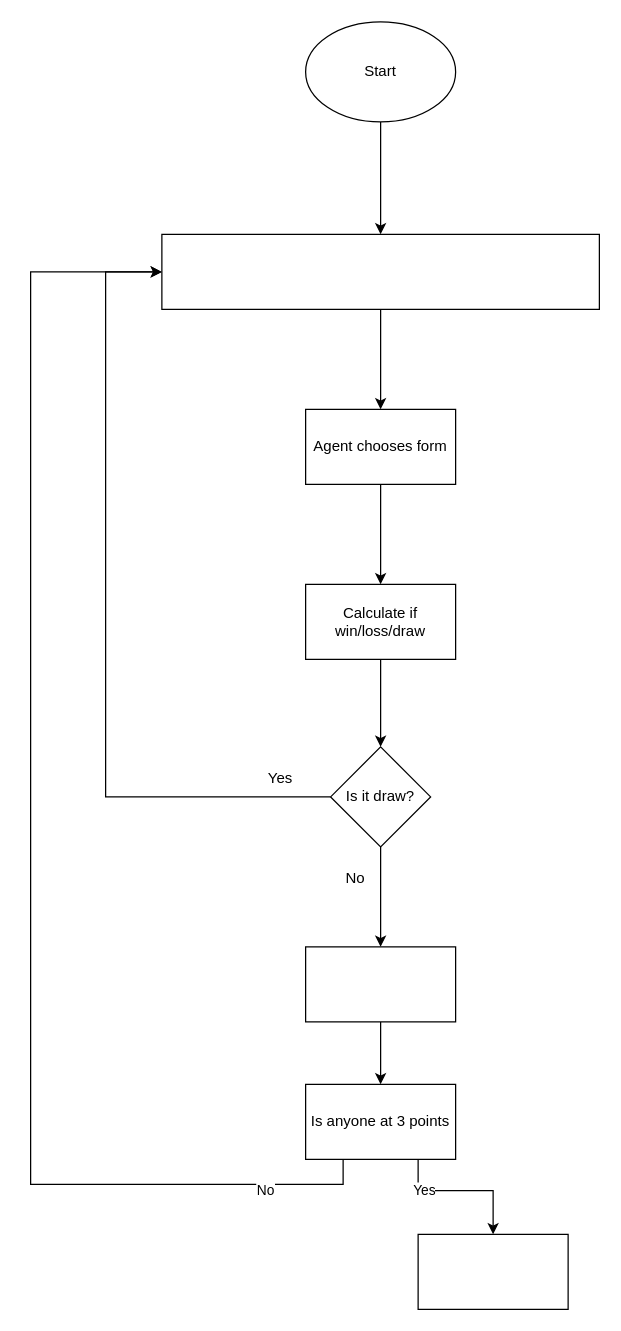
Image size: 621x1331. Some labels were removed from this diagram. The centre of each missing label's shape, as x and y in pixels:
"End - Game won/over" belongs at point (492, 1271).
"Player chooses form" belongs at point (380, 271).
"Update score for winner" belongs at point (380, 984).
